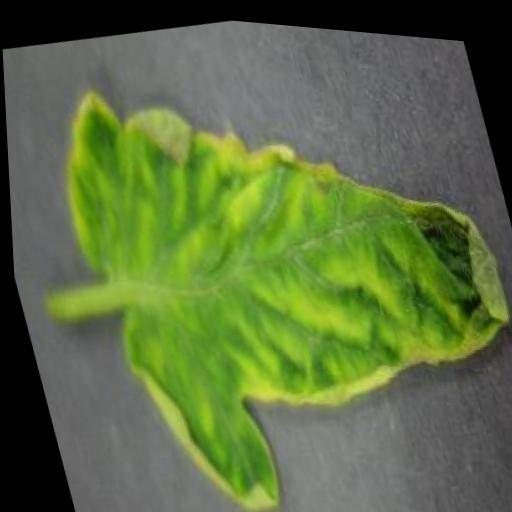Yellow Leaf Curl Virus: (30, 8, 512, 512)
